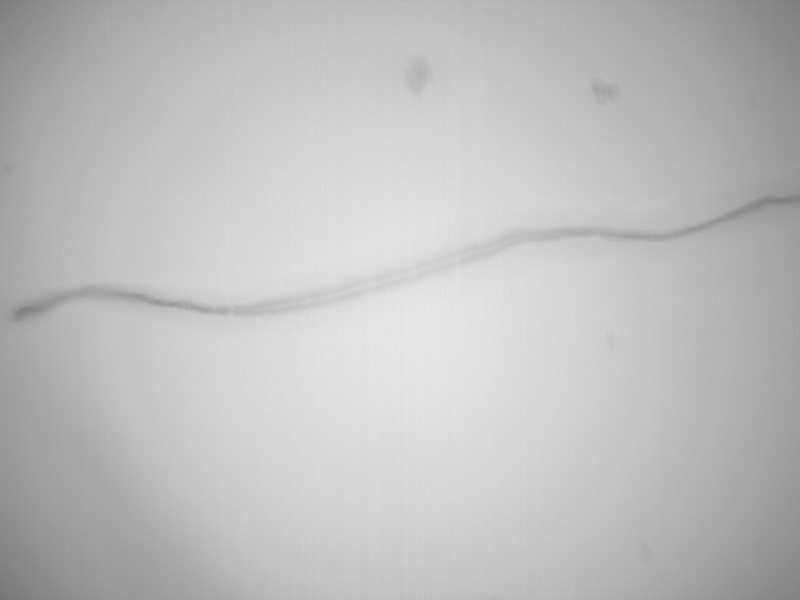fiber: (11, 191, 800, 325)
